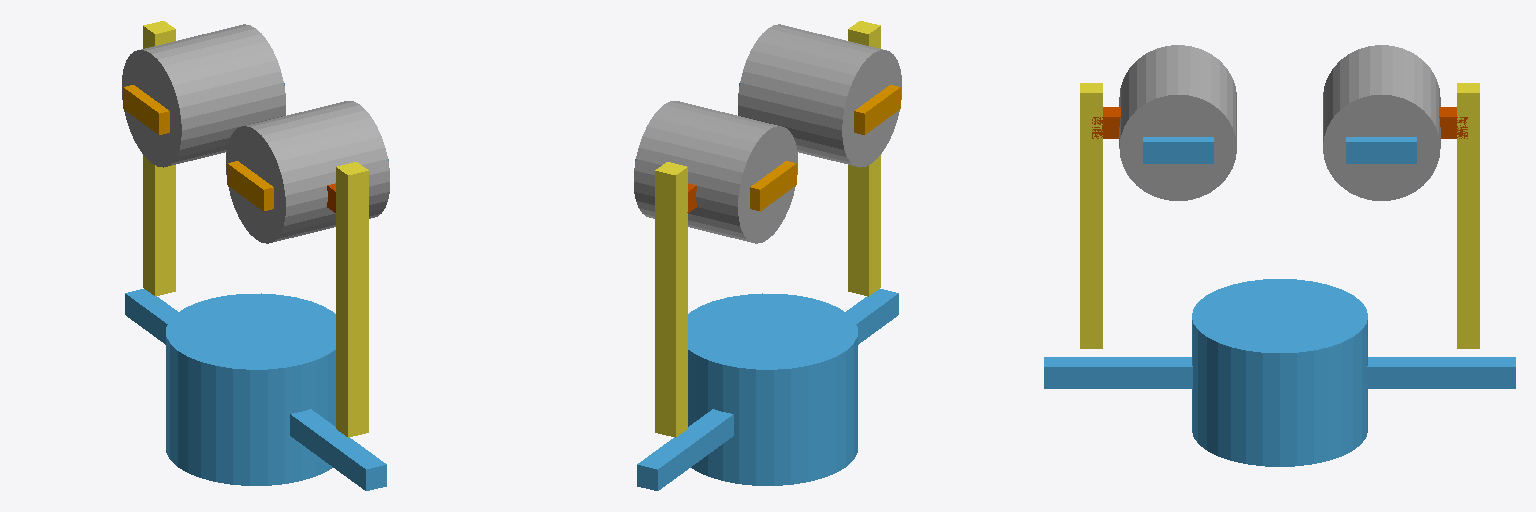
URDF robot description (biroller):
<?xml version="0.0"?>
<robot name="biroller">
  <link name="base">
    <inertial>
      <origin rpy="0.00000 -0.00000 0.00000" xyz="0.00000 0.00000 0.00000" />
      <mass value="0.0" />
      <inertia ixx="0.001" ixy="0" ixz="0" iyy="0.0011" iyz="0" izz="0.001" />
    </inertial>
  </link>
  <link name="forearm">
    <inertial>
      <origin rpy="0.00000 -0.00000 0.00000" xyz="0.00000 0.00000 0.00000" />
      <mass value="0.25525" />
      <inertia ixx="0.1" ixy="0" ixz="0" iyy="0.1" iyz="0" izz="1" />
    </inertial>
    <collision>
      <origin rpy="0.00000 -0.00000 0.00000" xyz="0.00000 0.00000 0.00000" />
      <geometry>
        <cylinder length="0.05325" radius="0.03750" />
      </geometry>
    </collision>
    <visual>
      <origin rpy="0.00000 -0.00000 0.00000" xyz="0.00000 0.00000 0.00000" />
      <geometry>
        <cylinder length="0.05325" radius="0.03750" />
      </geometry>
    </visual>
    <visual>
      <origin rpy="0.00000 -0.00000 0.00000" xyz="0.00000 0.0000 0.00000" />
      <geometry>
        <box size="0.01000 0.20000 0.01000" />
      </geometry>
    </visual>
  </link>
  <link name="link0_2">
    <inertial>
      <origin rpy="0.00000 -0.00000 0.00000" xyz="0.00000 0.00000 0.00000" />
      <mass value="0.00000" />
      <inertia ixx="0.00000" ixy="0" ixz="0" iyy="0.00000" iyz="0" izz="0.00000" />
    </inertial>
  </link>
  <link name="l1">
    <inertial>
      <origin rpy="0.00000 -0.00000 0.00000" xyz="0.00000 0.00000 0.00000" />
      <mass value="0.01200" />
      <inertia ixx="0.00001" ixy="0" ixz="0" iyy="0.00001" iyz="0" izz="0.00000" />
    </inertial>
    <collision>
      <origin rpy="0.00000 -0.00000 0.00000" xyz="0.00000 0.00000 0.00000" />
      <geometry>
        <box size="0.01000 0.01000 0.12000" />
      </geometry>
    </collision>
    <visual>
      <origin rpy="0.00000 -0.00000 0.00000" xyz="0.00000 0.00000 0.00000" />
      <geometry>
        <box size="0.01000 0.01000 0.12000" />
      </geometry>
    </visual>
  </link>
  <link name="link0_4">
    <inertial>
      <origin rpy="0.00000 -0.00000 0.00000" xyz="0.00000 0.00000 0.00000" />
      <mass value="0.00000" />
      <inertia ixx="0.00000" ixy="0" ixz="0" iyy="0.00000" iyz="0" izz="0.00000" />
    </inertial>
  </link>
  <link name="l2">
    <inertial>
      <origin rpy="0.00000 -0.00000 0.00000" xyz="0.00000 0.00000 0.00000" />
      <mass value="0.00368" />
      <inertia ixx="0.10000" ixy="0" ixz="0" iyy="0.10000" iyz="0" izz="0.10000" />
    </inertial>
    <!-- <collision>
      <origin rpy="0.00000 -0.00000 0.00000" xyz="0.00000 0.00000 0.00000" />
      <geometry>
        <box size="0.01000 0.03680 0.01000" />
      </geometry>
    </collision> -->
    <visual>
      <origin rpy="0.00000 -0.00000 0.00000" xyz="0.00000 0.00000 0.00000" />
      <geometry>
        <box size="0.01000 0.03680 0.01000" />
      </geometry>
    </visual>
  </link>
  <link name="link0_6">
    <inertial>
      <origin rpy="0.00000 -0.00000 0.00000" xyz="0.00000 0.00000 0.00000" />
      <mass value="0.00000" />
      <inertia ixx="0.00000" ixy="0" ixz="0" iyy="0.00000" iyz="0" izz="0.00000" />
    </inertial>
  </link>
  <link name="l3">
    <inertial>
      <origin rpy="0.00000 -0.00000 0.00000" xyz="0.00000 0.00000 0.00000" />
      <mass value="0.1" />
      <inertia ixx="0.1001" ixy="0" ixz="0" iyy="0.1001" iyz="0" izz="0.1001" />
    </inertial>
    <collision>
      <origin rpy="0.00000 -0.00000 0.00000" xyz="0.00000 0.00000 0.00000" />
      <geometry>
        <cylinder radius="0.025" length="0.05" />
        <!-- <mesh filename="package://robot_properties_fingers/meshes/roller_rough.obj" scale="1 1 1"/> -->
      </geometry>
    </collision>
    <visual>
      <origin rpy="0.00000 -0.00000 0.00000" xyz="0.00000 0.00000 0.00000" />
      <geometry>
        <cylinder radius="0.025" length="0.05" />
        <!-- <mesh filename="package://robot_properties_fingers/meshes/roller_rough.obj" scale="1 1 1"/> -->
      </geometry>
    </visual>
  </link>
  <link name="l3_visual_aid_top">
    <inertial>
      <origin rpy="0.00000 -0.00000 0.00000" xyz="0.00000 0.00000 0.00000" />
      <mass value="0.00300" />
      <inertia ixx="0.00000" ixy="0" ixz="0" iyy="0.00000" iyz="0" izz="0.00000" />
    </inertial>
    <!-- <collision>
      <origin rpy="0.00000 -0.00000 0.00000" xyz="0.00000 0.00000 0.00000" />
      <geometry>
        <box size="0.01000 0.03000 0.01000" />
      </geometry>
    </collision> -->
    <visual>
      <origin rpy="0.00000 -0.00000 0.00000" xyz="0.00000 0.00000 0.00000" />
      <geometry>
        <box size="0.01000 0.03000 0.01000" />
      </geometry>
    </visual>
  </link>
  <link name="l3_visual_aid_bottom">
    <inertial>
      <origin rpy="0.00000 -0.00000 0.00000" xyz="0.00000 0.00000 0.00000" />
      <mass value="0.00300" />
      <inertia ixx="0.00000" ixy="0" ixz="0" iyy="0.00000" iyz="0" izz="0.00000" />
    </inertial>
    <!-- <collision>
      <origin rpy="0.00000 -0.00000 0.00000" xyz="0.00000 0.00000 0.00000" />
      <geometry>
        <box size="0.01000 0.03000 0.01000" />
      </geometry>
    </collision> -->
    <visual>
      <origin rpy="0.00000 -0.00000 0.00000" xyz="0.00000 0.00000 0.00000" />
      <geometry>
        <box size="0.01000 0.03000 0.01000" />
      </geometry>
    </visual>
  </link>
  <link name="link0_10">
    <inertial>
      <origin rpy="0.00000 -0.00000 0.00000" xyz="0.00000 0.00000 0.00000" />
      <mass value="0.00000" />
      <inertia ixx="0.00000" ixy="0" ixz="0" iyy="0.00000" iyz="0" izz="0.00000" />
    </inertial>
  </link>
  <link name="r1">
    <inertial>
      <origin rpy="0.00000 -0.00000 0.00000" xyz="0.00000 0.00000 0.00000" />
      <mass value="0.01200" />
      <inertia ixx="0.00001" ixy="0" ixz="0" iyy="0.00001" iyz="0" izz="0.00000" />
    </inertial>
    <collision>
      <origin rpy="0.00000 -0.00000 0.00000" xyz="0.00000 0.00000 0.00000" />
      <geometry>
        <box size="0.01000 0.01000 0.12000" />
      </geometry>
    </collision>
    <visual>
      <origin rpy="0.00000 -0.00000 0.00000" xyz="0.00000 0.00000 0.00000" />
      <geometry>
        <box size="0.01000 0.01000 0.12000" />
      </geometry>
    </visual>
  </link>
  <link name="link0_12">
    <inertial>
      <origin rpy="0.00000 -0.00000 0.00000" xyz="0.00000 0.00000 0.00000" />
      <mass value="0.00000" />
      <inertia ixx="0.00000" ixy="0" ixz="0" iyy="0.00000" iyz="0" izz="0.00000" />
    </inertial>
  </link>
  <link name="r2">
    <inertial>
      <origin rpy="0.00000 -0.00000 0.00000" xyz="0.00000 0.00000 0.00000" />
      <mass value="0.00368" />
      <inertia ixx="0.10010000" ixy="0" ixz="0" iyy="0.10010000" iyz="0" izz="0.10010000" />
    </inertial>
    <!-- <collision>
      <origin rpy="0.00000 -0.00000 0.00000" xyz="0.00000 0.00000 0.00000" />
      <geometry>
        <box size="0.01000 0.03680 0.01000" />
      </geometry>
    </collision> -->
    <visual>
      <origin rpy="0.00000 -0.00000 0.00000" xyz="0.00000 0.00000 0.00000" />
      <geometry>
        <box size="0.01000 0.03680 0.01000" />
      </geometry>
    </visual>
  </link>
  <link name="link0_14">
    <inertial>
      <origin rpy="0.00000 -0.00000 0.00000" xyz="0.00000 0.00000 0.00000" />
      <mass value="0.00000" />
      <inertia ixx="0.00000" ixy="0" ixz="0" iyy="0.00000" iyz="0" izz="0.00000" />
    </inertial>
  </link>
  <link name="r3">
    <inertial>
      <origin rpy="0.00000 -0.00000 0.00000" xyz="0.00000 0.00000 0.00000" />
      <mass value="0.1" />
      <inertia ixx="0.1001" ixy="0" ixz="0" iyy="0.1001" iyz="0" izz="0.1001" />
    </inertial>
    <collision>
      <origin rpy="0.00000 -0.00000 0.00000" xyz="0.00000 0.00000 0.00000" />
      <geometry>
        <cylinder radius="0.025" length="0.05" />
        <!-- <mesh filename="package://robot_properties_fingers/meshes/roller_rough.obj" scale="1 1 1"/> -->
      </geometry>
    </collision>
    <visual>
      <origin rpy="0.00000 -0.00000 0.00000" xyz="0.00000 0.00000 0.00000" />
      <geometry>
        <cylinder radius="0.025" length="0.05" />
        <!-- <mesh filename="package://robot_properties_fingers/meshes/roller_rough.obj" scale="1 1 1"/> -->
      </geometry>
    </visual>
  </link>
  <link name="r3_visual_aid_top">
    <inertial>
      <origin rpy="0.00000 -0.00000 0.00000" xyz="0.00000 0.00000 0.00000" />
      <mass value="0.00300" />
      <inertia ixx="0.00000" ixy="0" ixz="0" iyy="0.00000" iyz="0" izz="0.00000" />
    </inertial>
    <!-- <collision>
      <origin rpy="0.00000 -0.00000 0.00000" xyz="0.00000 0.00000 0.00000" />
      <geometry>
        <box size="0.01000 0.03000 0.01000" />
      </geometry>
    </collision> -->
    <visual>
      <origin rpy="0.00000 -0.00000 0.00000" xyz="0.00000 0.00000 0.00000" />
      <geometry>
        <box size="0.01000 0.03000 0.01000" />
      </geometry>
    </visual>
  </link>
  <link name="r3_visual_aid_bottom">
    <inertial>
      <origin rpy="0.00000 -0.00000 0.00000" xyz="0.00000 0.00000 0.00000" />
      <mass value="0.00300" />
      <inertia ixx="0.00000" ixy="0" ixz="0" iyy="0.00000" iyz="0" izz="0.00000" />
    </inertial>
    <!-- <collision>
      <origin rpy="0.00000 -0.00000 0.00000" xyz="0.00000 0.00000 0.00000" />
      <geometry>
        <box size="0.01000 0.03000 0.01000" />
      </geometry>
    </collision> -->
    <visual>
      <origin rpy="0.00000 -0.00000 0.00000" xyz="0.00000 0.00000 0.00000" />
      <geometry>
        <box size="0.01000 0.03000 0.01000" />
      </geometry>
    </visual>
  </link>
  <joint name='wrist' type='revolute'>
    <parent link="base"/>
    <child link="forearm"/>
    <origin rpy="0.00000 -0.00000 0.00000" xyz="0.00000 0.00000 0.00000" />
    <limit effort="1000.0" lower="-1000" upper="1000" velocity="100" />
    <axis xyz="0.00000 0.00000 1.00000" />
  </joint>
  <joint name="finger_l" type="prismatic">
    <parent link="forearm" />
    <child link="link0_2" />
    <limit effort="1000.0" lower="-0.50000" upper="0.50000" velocity="0.5" />
    <dynamics damping="1.0" friction="0.0001" />
    <origin rpy="0.00000 -0.00000 0.00000" xyz="0.00000 -0.03000 0.03000" />
    <axis xyz="0.00000 1.00000 0.00000" />
  </joint>
  <joint name="jointfix_4_2" type="fixed">
    <parent link="link0_2" />
    <child link="l1" />
    <dynamics damping="1.0" friction="0.0001" />
    <origin rpy="0.00000 -0.00000 0.00000" xyz="0.00000 -0.05000 0.04352" />
    <axis xyz="0.00000 0.00000 0.00000" />
  </joint>
  <joint name="pitch_l" type="revolute">
    <parent link="l1" />
    <child link="link0_4" />
    <dynamics damping="1.0" friction="0.0001" />
    <origin rpy="0.00000 -0.00000 0.00000" xyz="0.00000 0.00000 0.04352" />
    <axis xyz="0.00000 1.00000 0.00000" />
  </joint>
  <joint name="jointfix_3_4" type="fixed">
    <parent link="link0_4" />
    <child link="l2" />
    <dynamics damping="1.0" friction="0.0001" />
    <origin rpy="0.00000 -0.00000 0.00000" xyz="0.00000 0.01840 0.00000" />
    <axis xyz="0.00000 0.00000 0.00000" />
  </joint>
  <joint name="roll_l" type="revolute">
    <parent link="l2" />
    <child link="link0_6" />
    <dynamics damping="1.0" friction="0.0001" />
    <origin rpy="0.00000 1.57000 0.00000" xyz="0.00000 0.01840 0.00000" />
    <axis xyz="0.00000 0.00000 1.00000" />
  </joint>
  <joint name="jointfix_2_6" type="fixed">
    <parent link="link0_6" />
    <child link="l3" />
    <dynamics damping="1.0" friction="0.0001" />
    <origin rpy="0.00000 -0.00000 0.00000" xyz="0.00000 0.00000 0.00000" />
    <axis xyz="0.00000 0.00000 0.00000" />
  </joint>
  <joint name="jointfix_0_5" type="fixed">
    <parent link="l3" />
    <child link="l3_visual_aid_top" />
    <dynamics damping="1.0" friction="0.0001" />
    <origin rpy="0.00000 -0.00000 0.00000" xyz="0.00000 0.00000 -0.02500" />
    <axis xyz="0.00000 0.00000 0.00000" />
  </joint>
  <joint name="jointfix_1_5" type="fixed">
    <parent link="l3" />
    <child link="l3_visual_aid_bottom" />
    <dynamics damping="1.0" friction="0.0001" />
    <origin rpy="0.00000 -0.00000 0.00000" xyz="0.00000 0.00000 0.02500" />
    <axis xyz="0.00000 0.00000 0.00000" />
  </joint>
  <joint name="finger_r" type="prismatic">
    <parent link="forearm" />
    <child link="link0_10" />
    <limit effort="1000.0" lower="-0.50000" upper="0.50000" velocity="0.5" />
    <dynamics damping="1.0" friction="0.0001" />
    <origin rpy="0.00000 -0.00000 0.00000" xyz="0.00000 0.03000 0.03000" />
    <axis xyz="0.00000 -1.00000 0.00000" />
  </joint>
  <joint name="jointfix_9_10" type="fixed">
    <parent link="link0_10" />
    <child link="r1" />
    <dynamics damping="1.0" friction="0.0001" />
    <origin rpy="0.00000 -0.00000 0.00000" xyz="0.00000 0.05000 0.04352" />
    <axis xyz="0.00000 0.00000 0.00000" />
  </joint>
  <joint name="pitch_r" type="revolute">
    <parent link="r1" />
    <child link="link0_12" />
    <dynamics damping="1.0" friction="0.0001" />
    <origin rpy="0.00000 -0.00000 0.00000" xyz="0.00000 -0.03680 0.04352" />
    <axis xyz="0.00000 1.00000 0.00000" />
  </joint>
  <joint name="jointfix_8_12" type="fixed">
    <parent link="link0_12" />
    <child link="r2" />
    <dynamics damping="1.0" friction="0.0001" />
    <origin rpy="0.00000 -0.00000 0.00000" xyz="0.00000 0.01840 0.00000" />
    <axis xyz="0.00000 0.00000 0.00000" />
  </joint>
  <joint name="roll_r" type="revolute">
    <parent link="r2" />
    <child link="link0_14" />
    <dynamics damping="1.0" friction="0.0001" />
    <origin rpy="0.00000 1.57000 0.00000" xyz="0.00000 -0.01840 0.00000" />
    <axis xyz="0.00000 0.00000 1.00000" />
  </joint>
  <joint name="jointfix_7_14" type="fixed">
    <parent link="link0_14" />
    <child link="r3" />
    <dynamics damping="1.0" friction="0.0001" />
    <origin rpy="0.00000 -0.00000 0.00000" xyz="0.00000 0.00000 0.00000" />
    <axis xyz="0.00000 0.00000 0.00000" />
  </joint>
  <joint name="jointfix_5_13" type="fixed">
    <parent link="r3" />
    <child link="r3_visual_aid_top" />
    <dynamics damping="1.0" friction="0.0001" />
    <origin rpy="0.00000 -0.00000 0.00000" xyz="0.00000 0.00000 -0.02500" />
    <axis xyz="0.00000 0.00000 0.00000" />
  </joint>
  <joint name="jointfix_6_13" type="fixed">
    <parent link="r3" />
    <child link="r3_visual_aid_bottom" />
    <dynamics damping="1.0" friction="0.0001" />
    <origin rpy="0.00000 -0.00000 0.00000" xyz="0.00000 0.00000 0.02500" />
    <axis xyz="0.00000 0.00000 0.00000" />
  </joint>
</robot>

--- Render facts (derived) ---
3 views of the same robot in one strip: view 1: azimuth 30°, elevation 25°; view 2: azimuth 150°, elevation 25°; view 3: azimuth 270°, elevation 25° (orthographic).
Model biroller with 18 links and 17 joints (5 revolute, 2 prismatic, 10 fixed), rooted at base, posed all joints at 0.
Visible links, largest first — view 1: forearm, r3, l3, l1, r1, l3_visual_aid_top, r3_visual_aid_top; view 2: forearm, l3, r3, r1, l1, r3_visual_aid_top, l3_visual_aid_top; view 3: forearm, l3, r3, r1, l1, l3_visual_aid_bottom, r3_visual_aid_bottom, l2, r2.
Link boxes in pixels (box(x1,y1,x2,y2)): forearm: box(125, 289, 386, 490); r3: box(122, 24, 285, 167); l3: box(226, 101, 389, 243); l1: box(336, 162, 368, 437); r1: box(143, 21, 175, 296); l3_visual_aid_top: box(227, 161, 273, 211); r3_visual_aid_top: box(123, 85, 169, 134); forearm: box(637, 289, 898, 490); l3: box(738, 24, 901, 167); r3: box(634, 101, 797, 243); r1: box(655, 162, 687, 437); l1: box(848, 21, 880, 296); r3_visual_aid_top: box(750, 161, 796, 211); l3_visual_aid_top: box(854, 85, 900, 134); forearm: box(1044, 279, 1515, 466); l3: box(1119, 45, 1236, 200); r3: box(1323, 45, 1440, 200); r1: box(1457, 83, 1479, 348); l1: box(1080, 83, 1102, 348); l3_visual_aid_bottom: box(1143, 137, 1213, 163); r3_visual_aid_bottom: box(1346, 137, 1416, 163); l2: box(1092, 107, 1120, 138); r2: box(1439, 107, 1467, 138).
Bounding box of the posed robot: 0.075 × 0.2 × 0.1687 m (x, y, z).
Geometry: primitives only (box / cylinder / sphere), no mesh files.